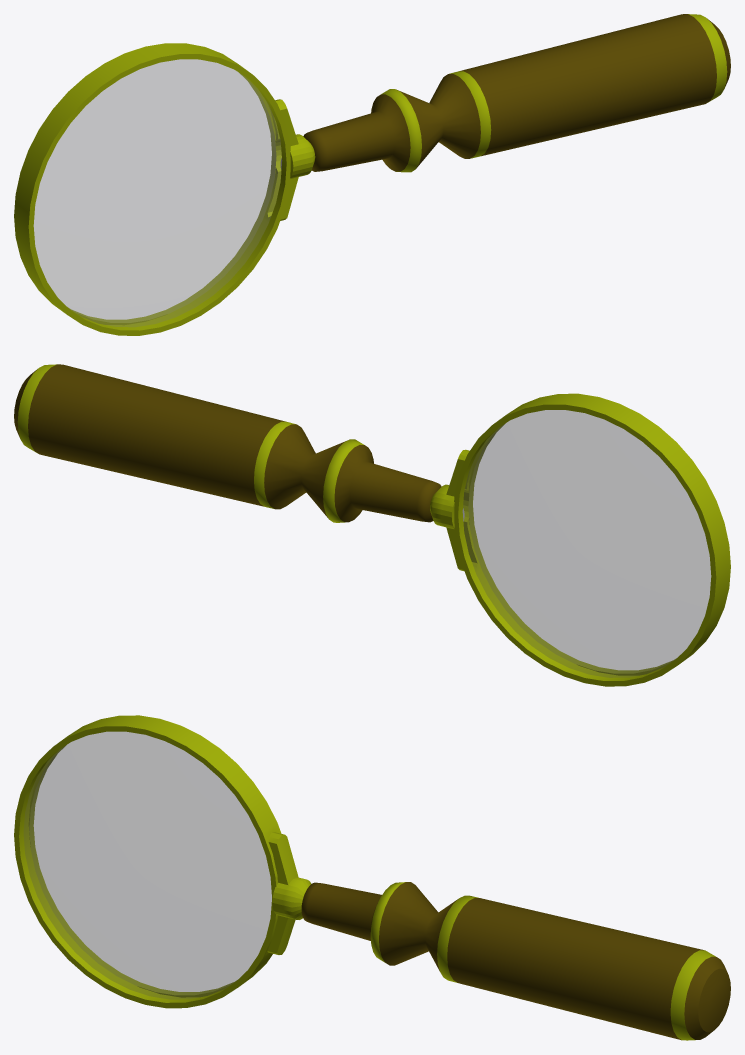
The picture shows the model from 3 angles, top to bottom: view 1: azimuth 30°, elevation 25°; view 2: azimuth 150°, elevation 25°; view 3: azimuth 330°, elevation 25°; orthographic projection.
Visible parts, largest first — view 1: Magnifying_Glass1; view 2: Magnifying_Glass1; view 3: Magnifying_Glass1.
Part boxes in pixels (x1=…): Magnifying_Glass1: x1=14, y1=14, x2=730, y2=335; Magnifying_Glass1: x1=14, y1=364, x2=730, y2=686; Magnifying_Glass1: x1=14, y1=715, x2=730, y2=1040.
Size of the model in its own units: 84.39 by 31.88 by 9.76.
